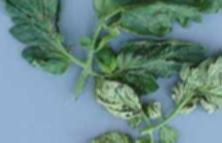Tomato leaf bacterial spot: (90, 0, 222, 41), (0, 0, 75, 71), (176, 44, 222, 113), (93, 79, 147, 127)
